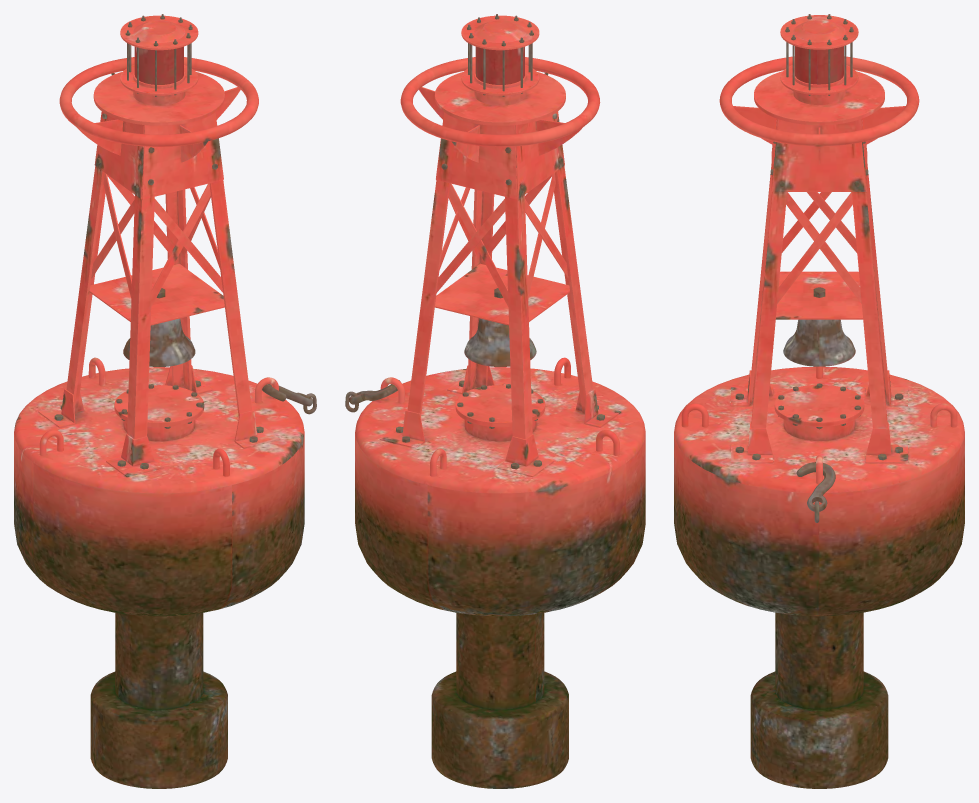
File: ocean_buoy.gltf
3 views of the same model, side by side, from view 1: azimuth 30°, elevation 25°; view 2: azimuth 150°, elevation 25°; view 3: azimuth 270°, elevation 25° (orthographic).
Visible parts, largest first — view 1: lod0; view 2: lod0; view 3: lod0.
Boxes of the visible parts, bbox=[...] form: lod0: bbox=[14, 14, 316, 788]; lod0: bbox=[345, 14, 645, 788]; lod0: bbox=[674, 14, 964, 788].
Size of what is drawn, in the model's own units: 1.07 by 2.66 by 0.9521.
1 material, 1 textured.
